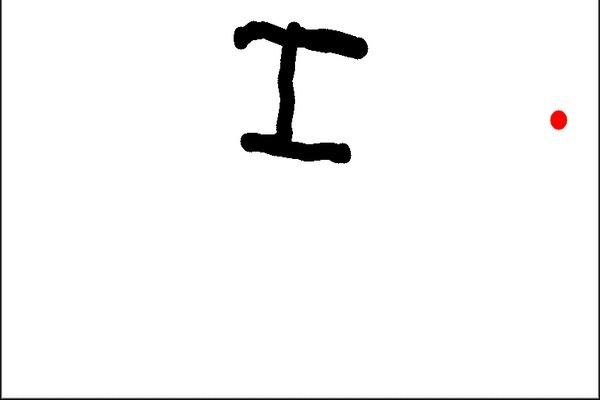i: (222, 8, 377, 176)
